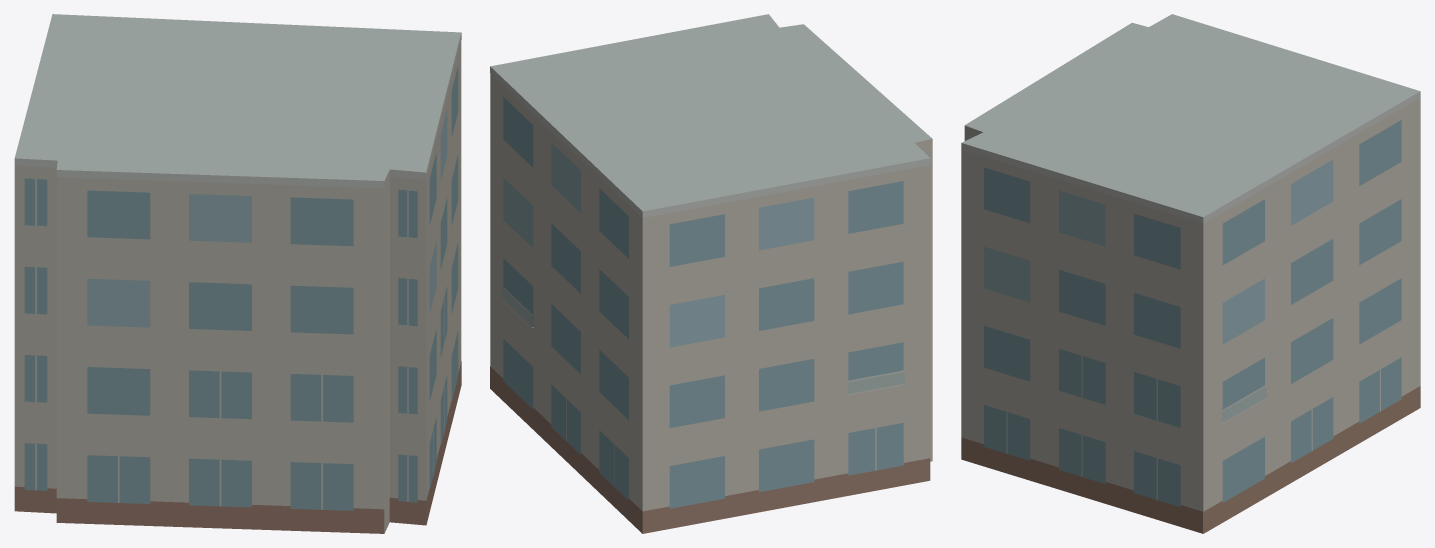
Rendered from survey-upis-32747260.glb.
3 views of the same model, side by side, from view 1: azimuth 30°, elevation 25°; view 2: azimuth 150°, elevation 25°; view 3: azimuth 270°, elevation 25° (orthographic). The views are drawn at different scales.
Parts seen in each view (by area): view 1: survey-upis-32747260.tmp; view 2: survey-upis-32747260.tmp; view 3: survey-upis-32747260.tmp.
Boxes of the visible parts, x1,y1,x2,y2 form: survey-upis-32747260.tmp: (14, 14, 461, 533); survey-upis-32747260.tmp: (490, 14, 932, 533); survey-upis-32747260.tmp: (961, 14, 1420, 533).
Size of the model in its own units: 16.19 by 11.75 by 15.45.
